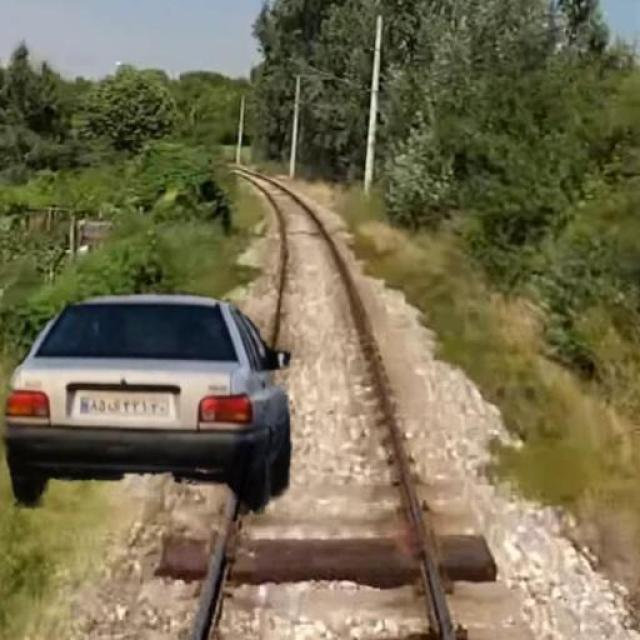vehicle: (0, 285, 300, 522)
